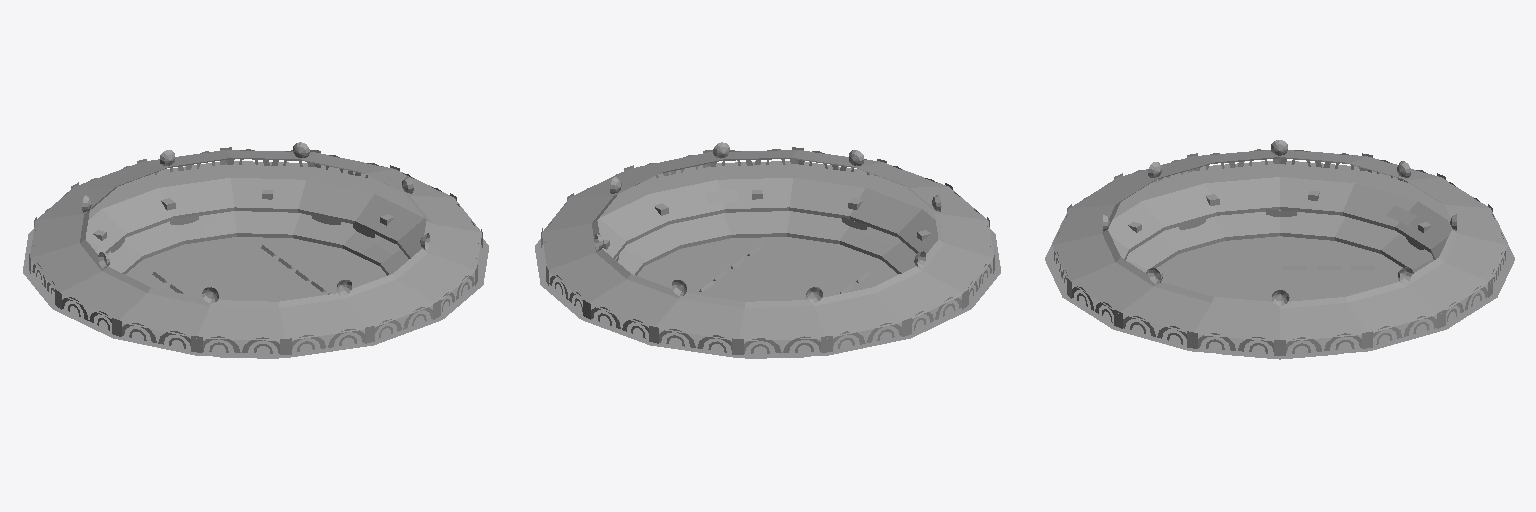
Rendered from Pkmn_Arena_noSky.obj.
The picture shows the model from 3 angles: view 1: azimuth 30°, elevation 25°; view 2: azimuth 150°, elevation 25°; view 3: azimuth 270°, elevation 25°; orthographic projection.
Parts seen in each view (by area): view 1: stadium; view 2: stadium; view 3: stadium.
Part boxes in pixels (bbox=[...]): stadium: bbox=[23, 142, 488, 358]; stadium: bbox=[535, 142, 1000, 358]; stadium: bbox=[1045, 140, 1514, 359].
Bounding box in the file's own units: 29.6 × 5.74 × 29.6.